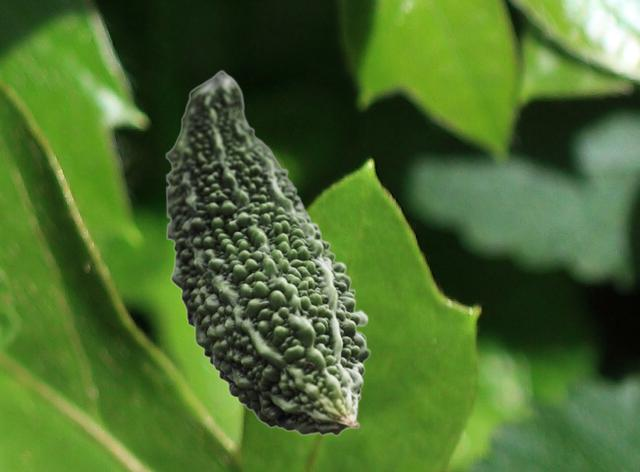ampalaya: (165, 69, 370, 435)
